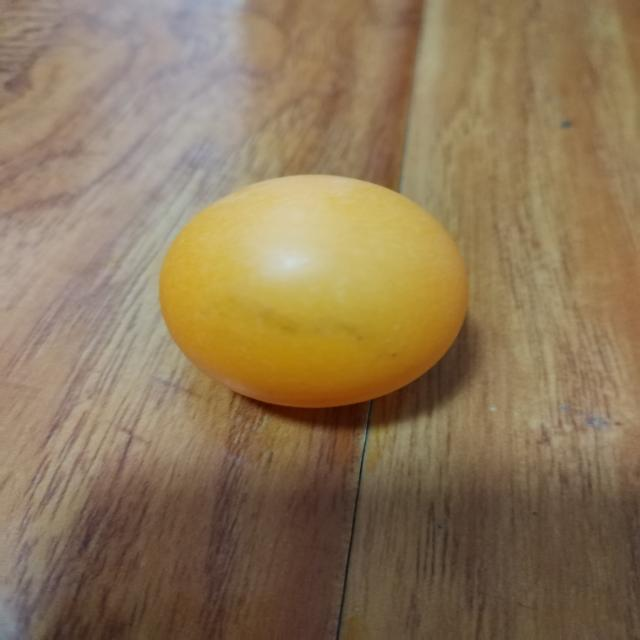oball: (162, 174, 470, 408)
